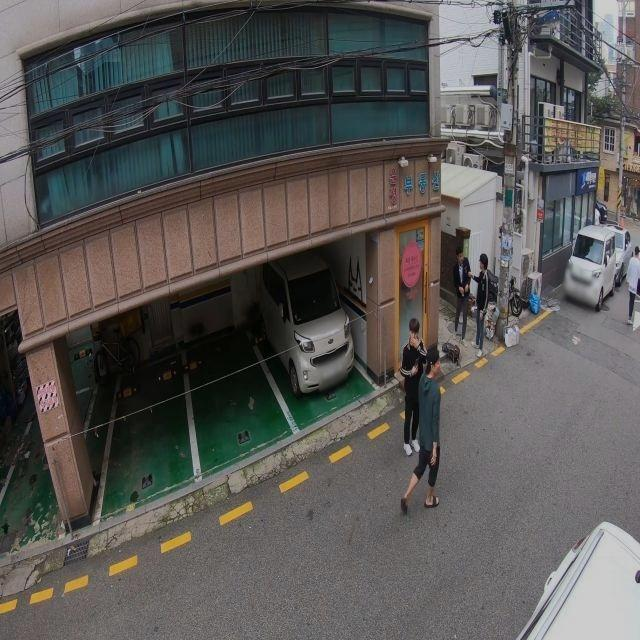fight: (445, 242, 494, 357)
non-fight: (402, 349, 446, 514), (397, 316, 433, 459), (624, 242, 639, 326)
